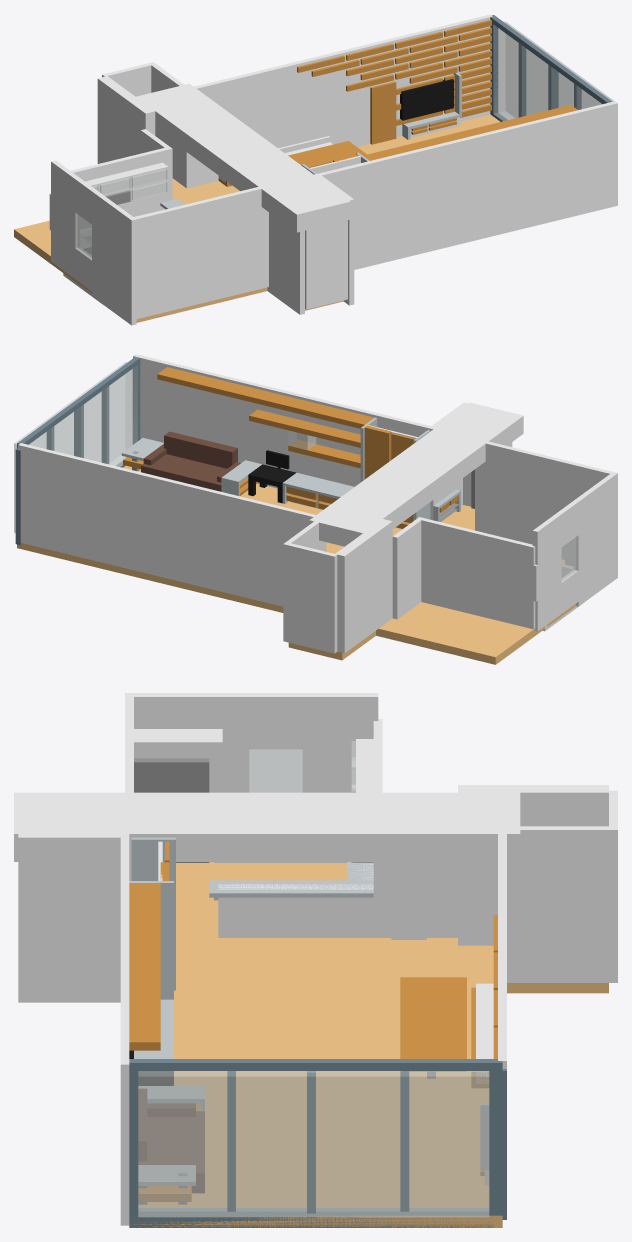
File: scene_wSiIBQxAhY.glb
The picture shows the model from 3 angles, top to bottom: view 1: azimuth 30°, elevation 25°; view 2: azimuth 150°, elevation 25°; view 3: azimuth 270°, elevation 25°; orthographic projection. The views are drawn at different scales.
Parts seen in each view (by area): view 1: Node; view 2: Node; view 3: Node.
Boxes of the visible parts, <box> form: Node: <box>14,14,617,325</box>; Node: <box>14,354,617,664</box>; Node: <box>14,693,617,1227</box>.
Bounding box in the file's own units: 2 × 0.42 × 1.36.
